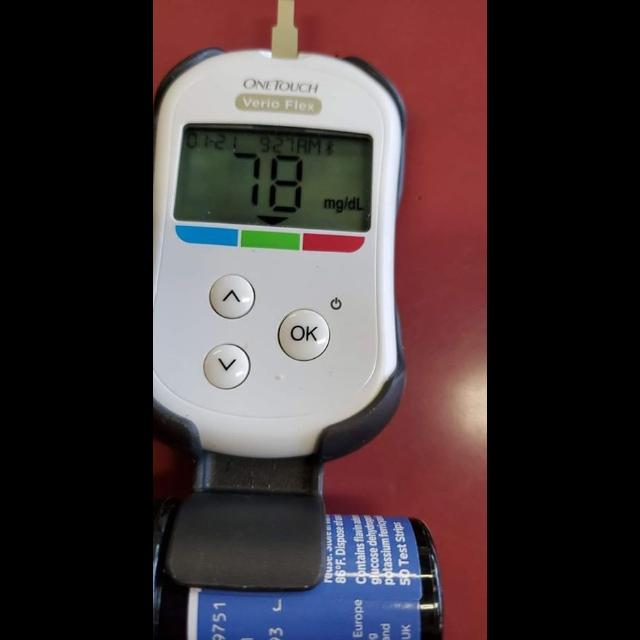Glucose-Meter: (156, 0, 406, 458)
